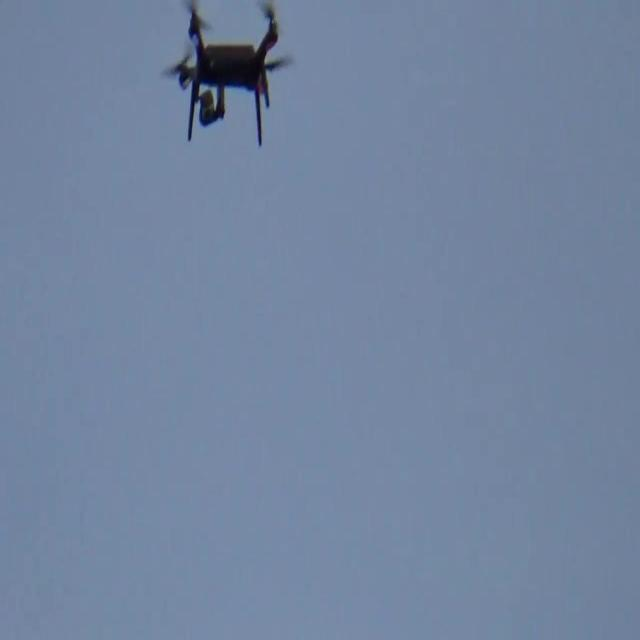drone: (158, 2, 296, 146)
